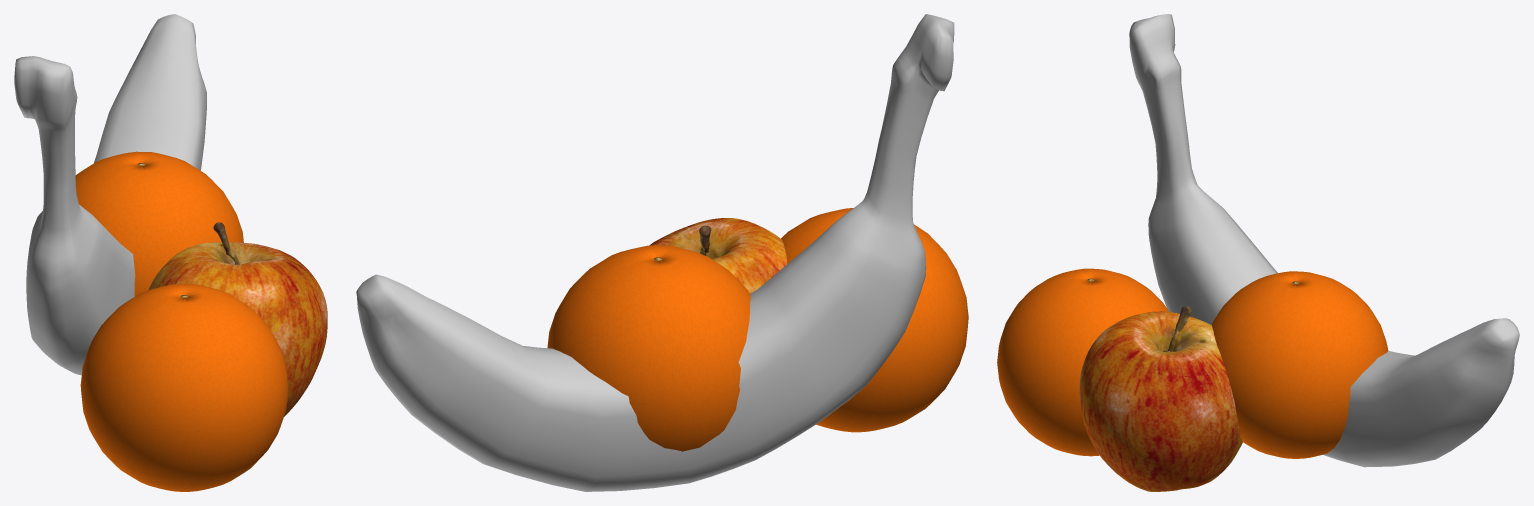
Rendered from escenaf.obj.
3 renders of one model, left to right at view 1: azimuth 30°, elevation 25°; view 2: azimuth 150°, elevation 25°; view 3: azimuth 270°, elevation 25°, orthographic. The views are drawn at different scales.
Visible parts, largest first — view 1: Orange.001, Cube.001, Orange, objapple; view 2: Cube.001, Orange, Orange.001, objapple; view 3: Cube.001, Orange, objapple, Orange.001.
Part boxes in pixels (x1,y1,x2,y2): Orange.001: [80, 283, 288, 491]; Cube.001: [14, 14, 206, 375]; Orange: [75, 151, 243, 296]; objapple: [148, 222, 327, 416]; Cube.001: [356, 14, 954, 491]; Orange: [547, 245, 750, 451]; Orange.001: [781, 208, 968, 432]; objapple: [649, 218, 787, 293]; Cube.001: [1129, 14, 1519, 467]; Orange: [1211, 271, 1388, 458]; objapple: [1079, 306, 1242, 491]; Orange.001: [997, 268, 1168, 456].
Bounding box in the file's own units: 4.05 × 4.48 × 5.57.
